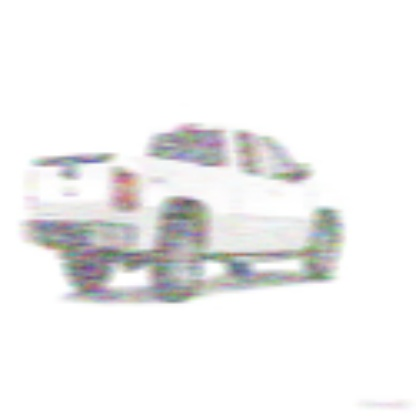Vehicle: (21, 120, 345, 307)
